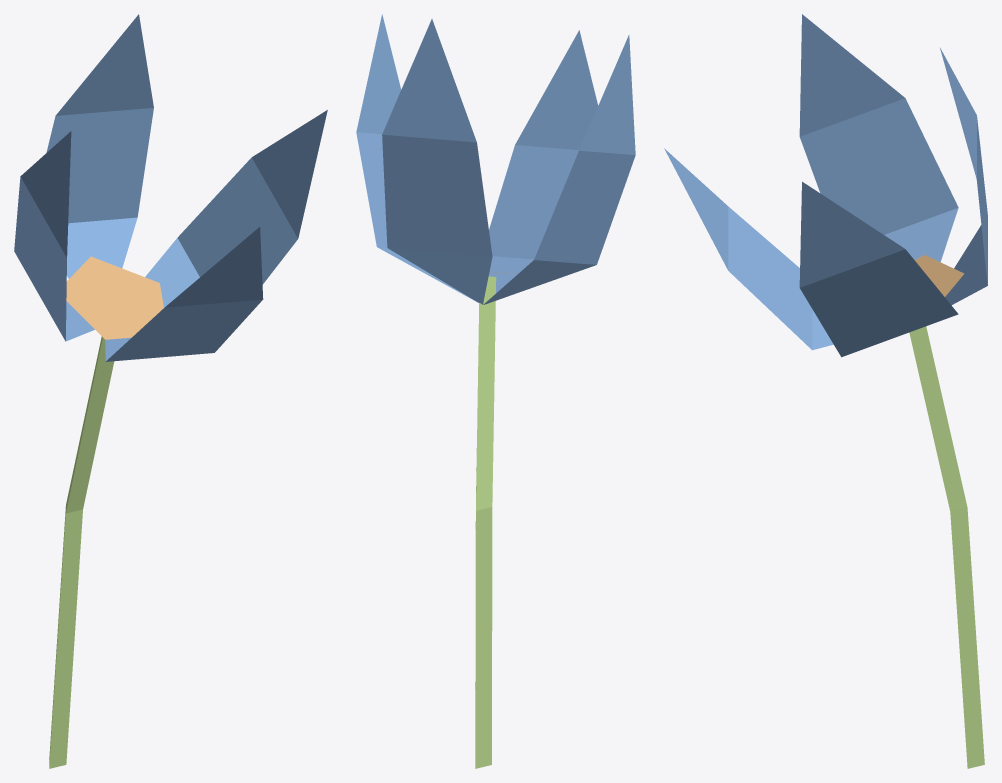
Rendered from Flower_a_TwoS_01.fbx.
3 renders of one model, left to right at view 1: azimuth 30°, elevation 25°; view 2: azimuth 150°, elevation 25°; view 3: azimuth 270°, elevation 25°, orthographic. The views are drawn at different scales.
Visible parts, largest first — view 1: Flower_a_TwoS_01; view 2: Flower_a_TwoS_01; view 3: Flower_a_TwoS_01.
Boxes of the visible parts, x1,y1,x2,y2 form: Flower_a_TwoS_01: (14,14,327,768); Flower_a_TwoS_01: (356,14,635,768); Flower_a_TwoS_01: (664,14,987,768).
Bounding box in the file's own units: 26.42 × 71.88 × 28.1.
